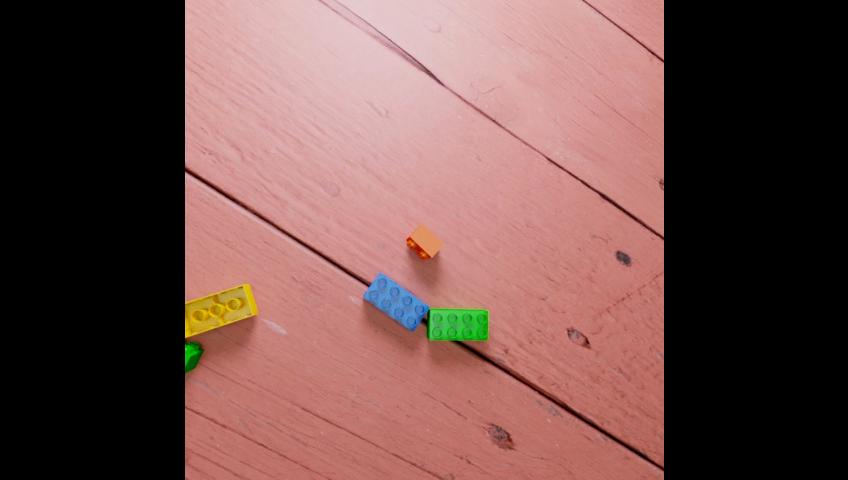2x2_green: (184, 338, 204, 374)
2x2_orange: (406, 223, 444, 259)
4x2_blue: (363, 272, 430, 331)
4x2_green: (427, 308, 488, 339)
4x2_yellow: (184, 284, 258, 338)
